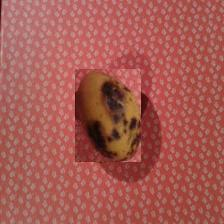Mango Rotten: (76, 69, 142, 162)
